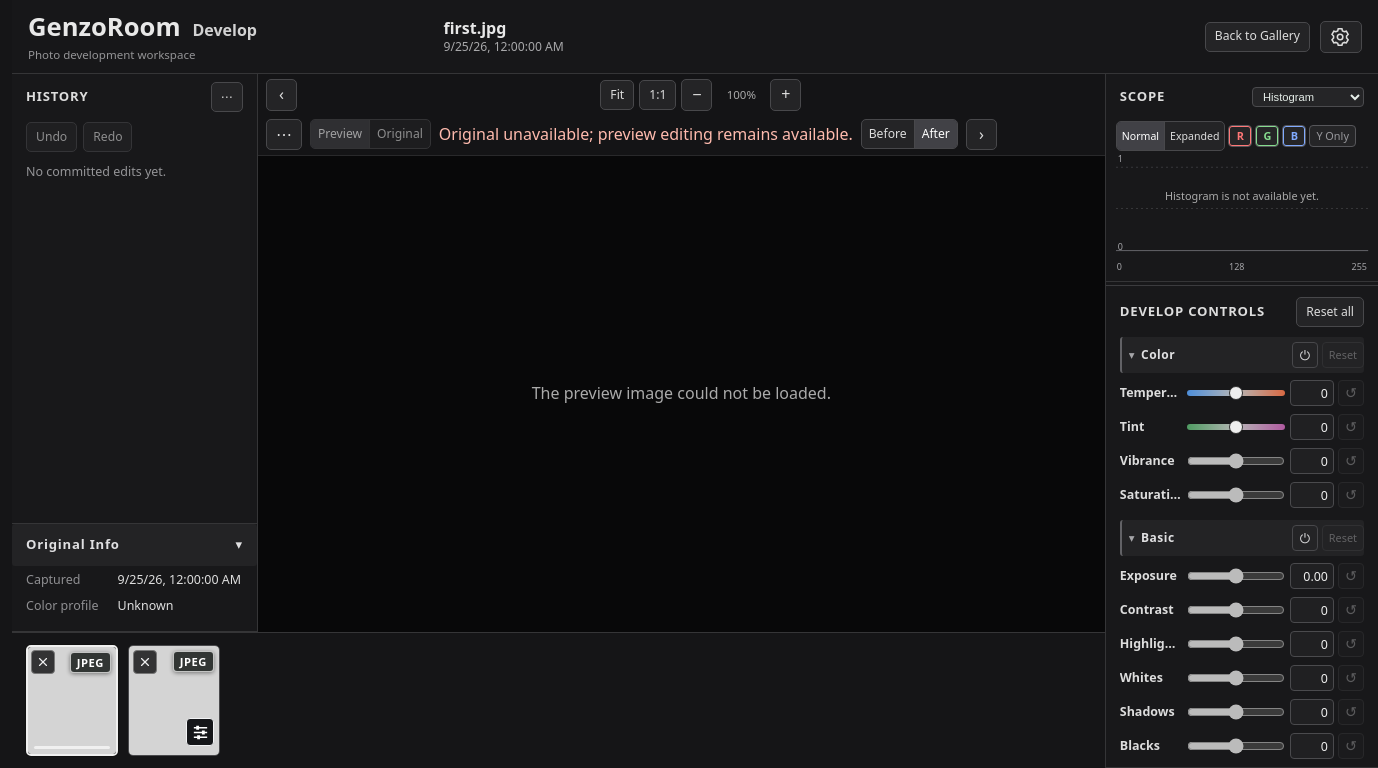
Scenario: immediate thumbnail reservation after saved navigation › continues moving when the reservation rejects
Click the button with aria-label "second.jpg" at (174, 700), box x1=128 y1=645 x2=220 y2=756
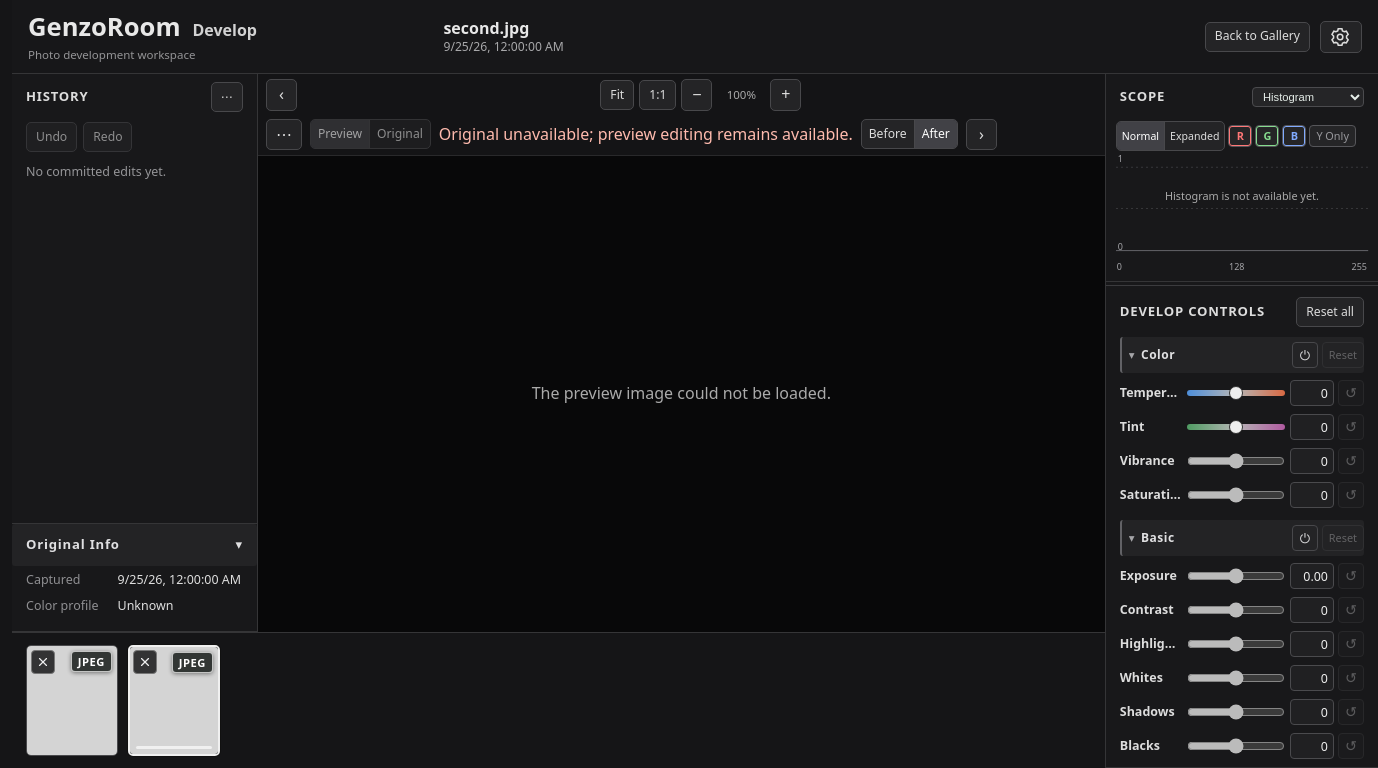
Check: the text "second.jpg" is shown, box x1=443 y1=16 x2=529 y2=38
